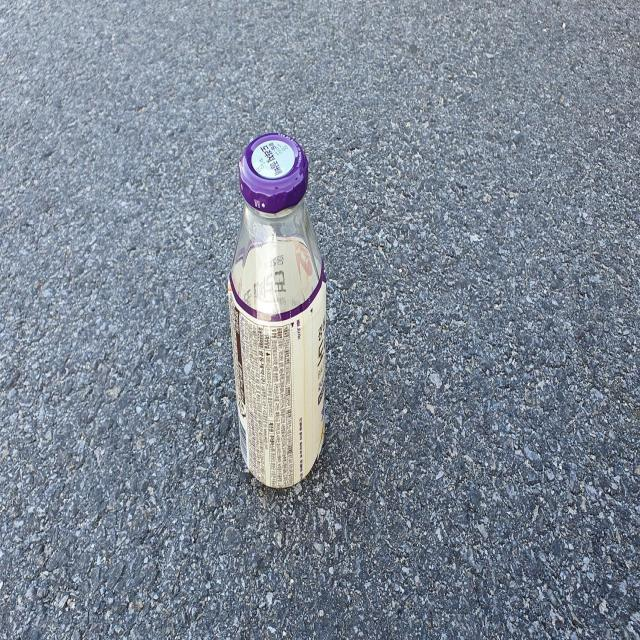glass: (228, 132, 326, 487)
